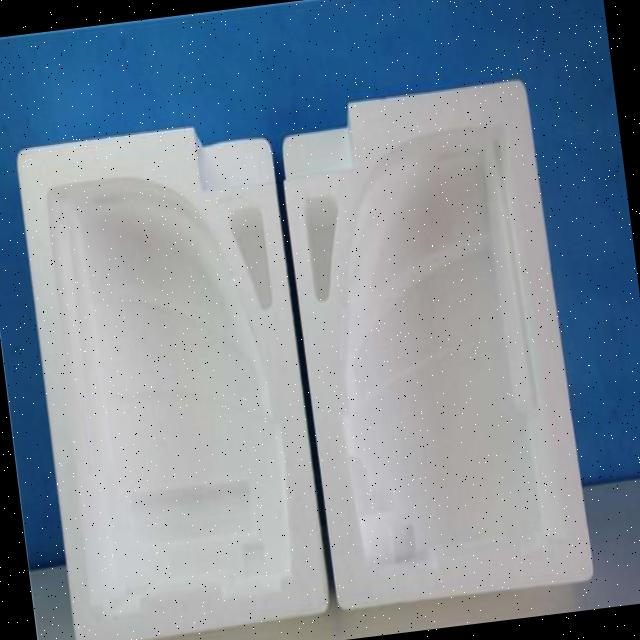styrofoam: (272, 75, 596, 615), (11, 112, 332, 640)
